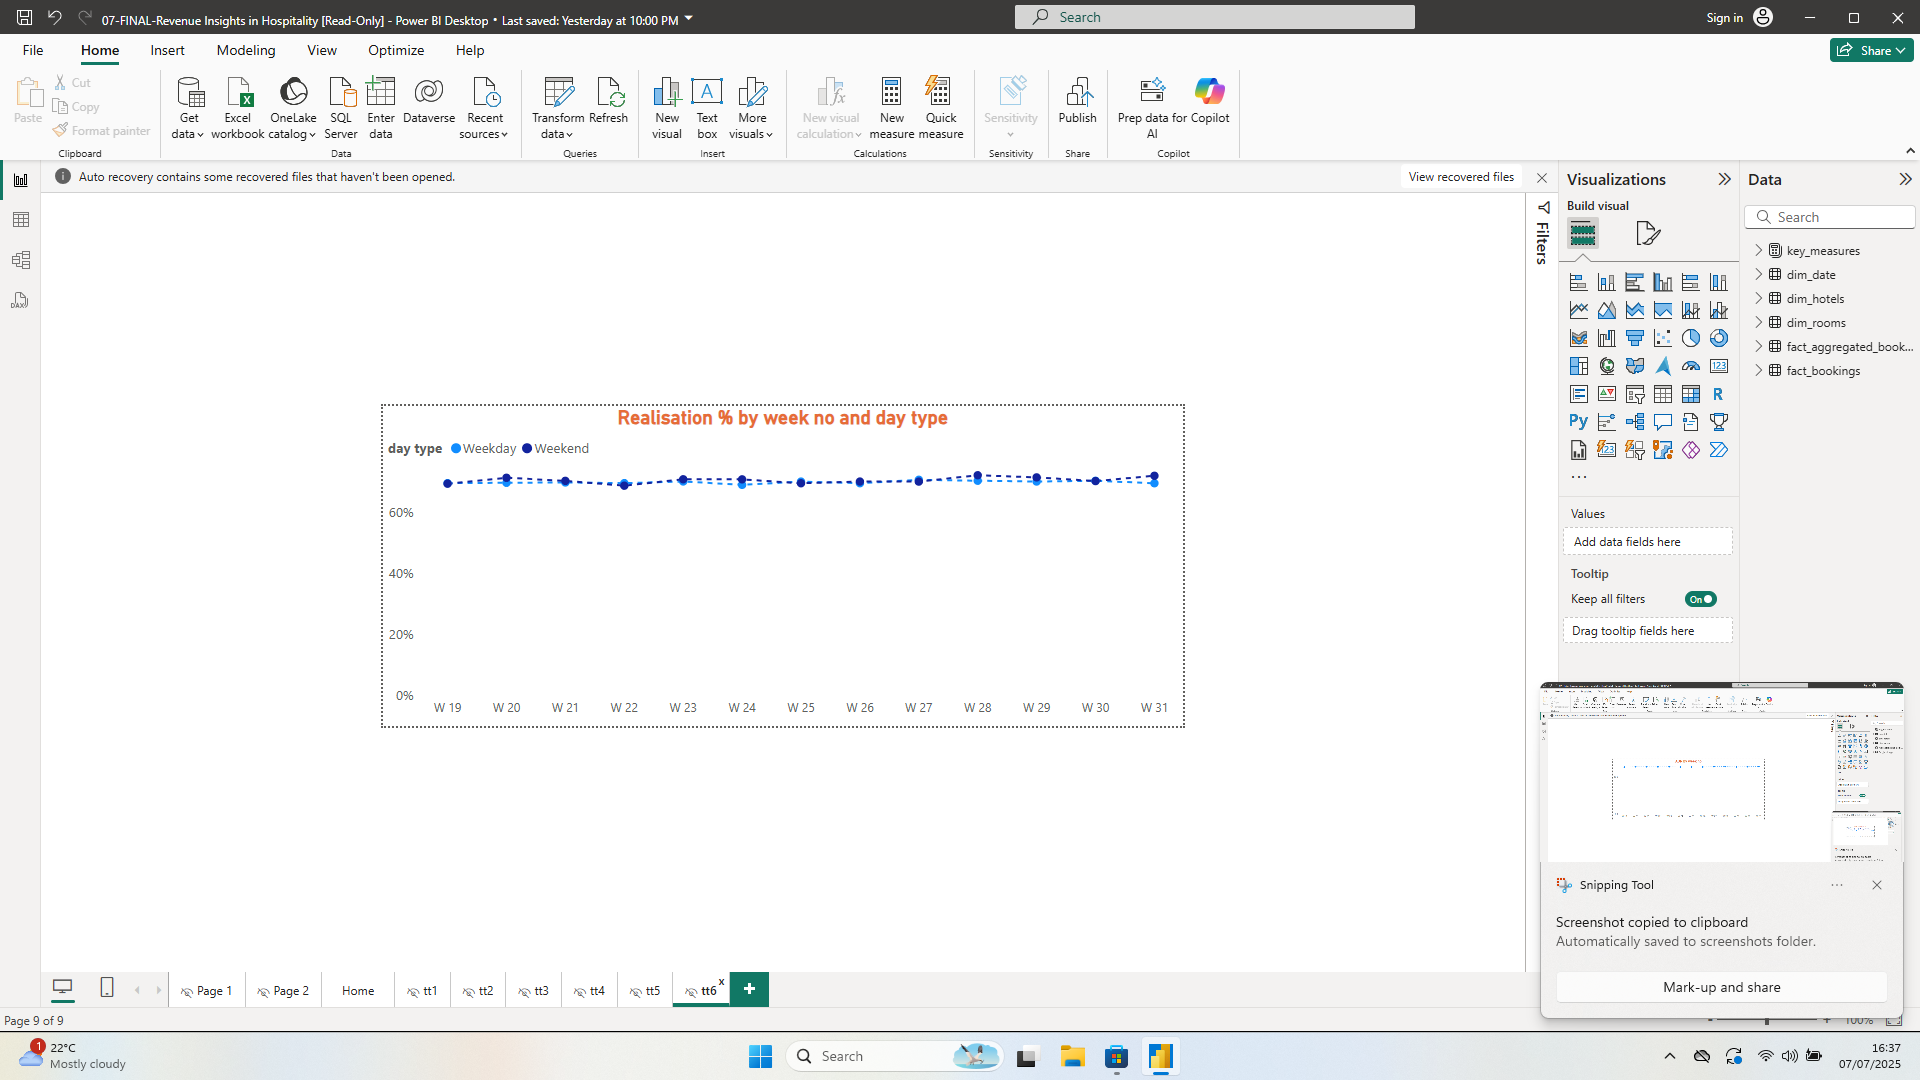

The dashboard page shown, as its layout file describes it:
{"tool":"powerbi","page":{"name":"tt6","canvas":[800,320],"ordinal":8},"visuals":[{"type":"lineChart","fields":{"Category":["dim_date.week no"],"Y":["key_measures.Realisation %"],"Series":["dim_date.day type"]},"box":[0,0,800,320],"z":0}]}

Visuals, with their boxes on the page's 800x320 design canvas (x1, y1, x2, y2). These are canvas units, not pixel positions in the 1920x1080 screenshot, which may show the page scaled, cropped or inside an application window:
lineChart - dim_date.week no x key_measures.Realisation %: (0, 0, 800, 320)
